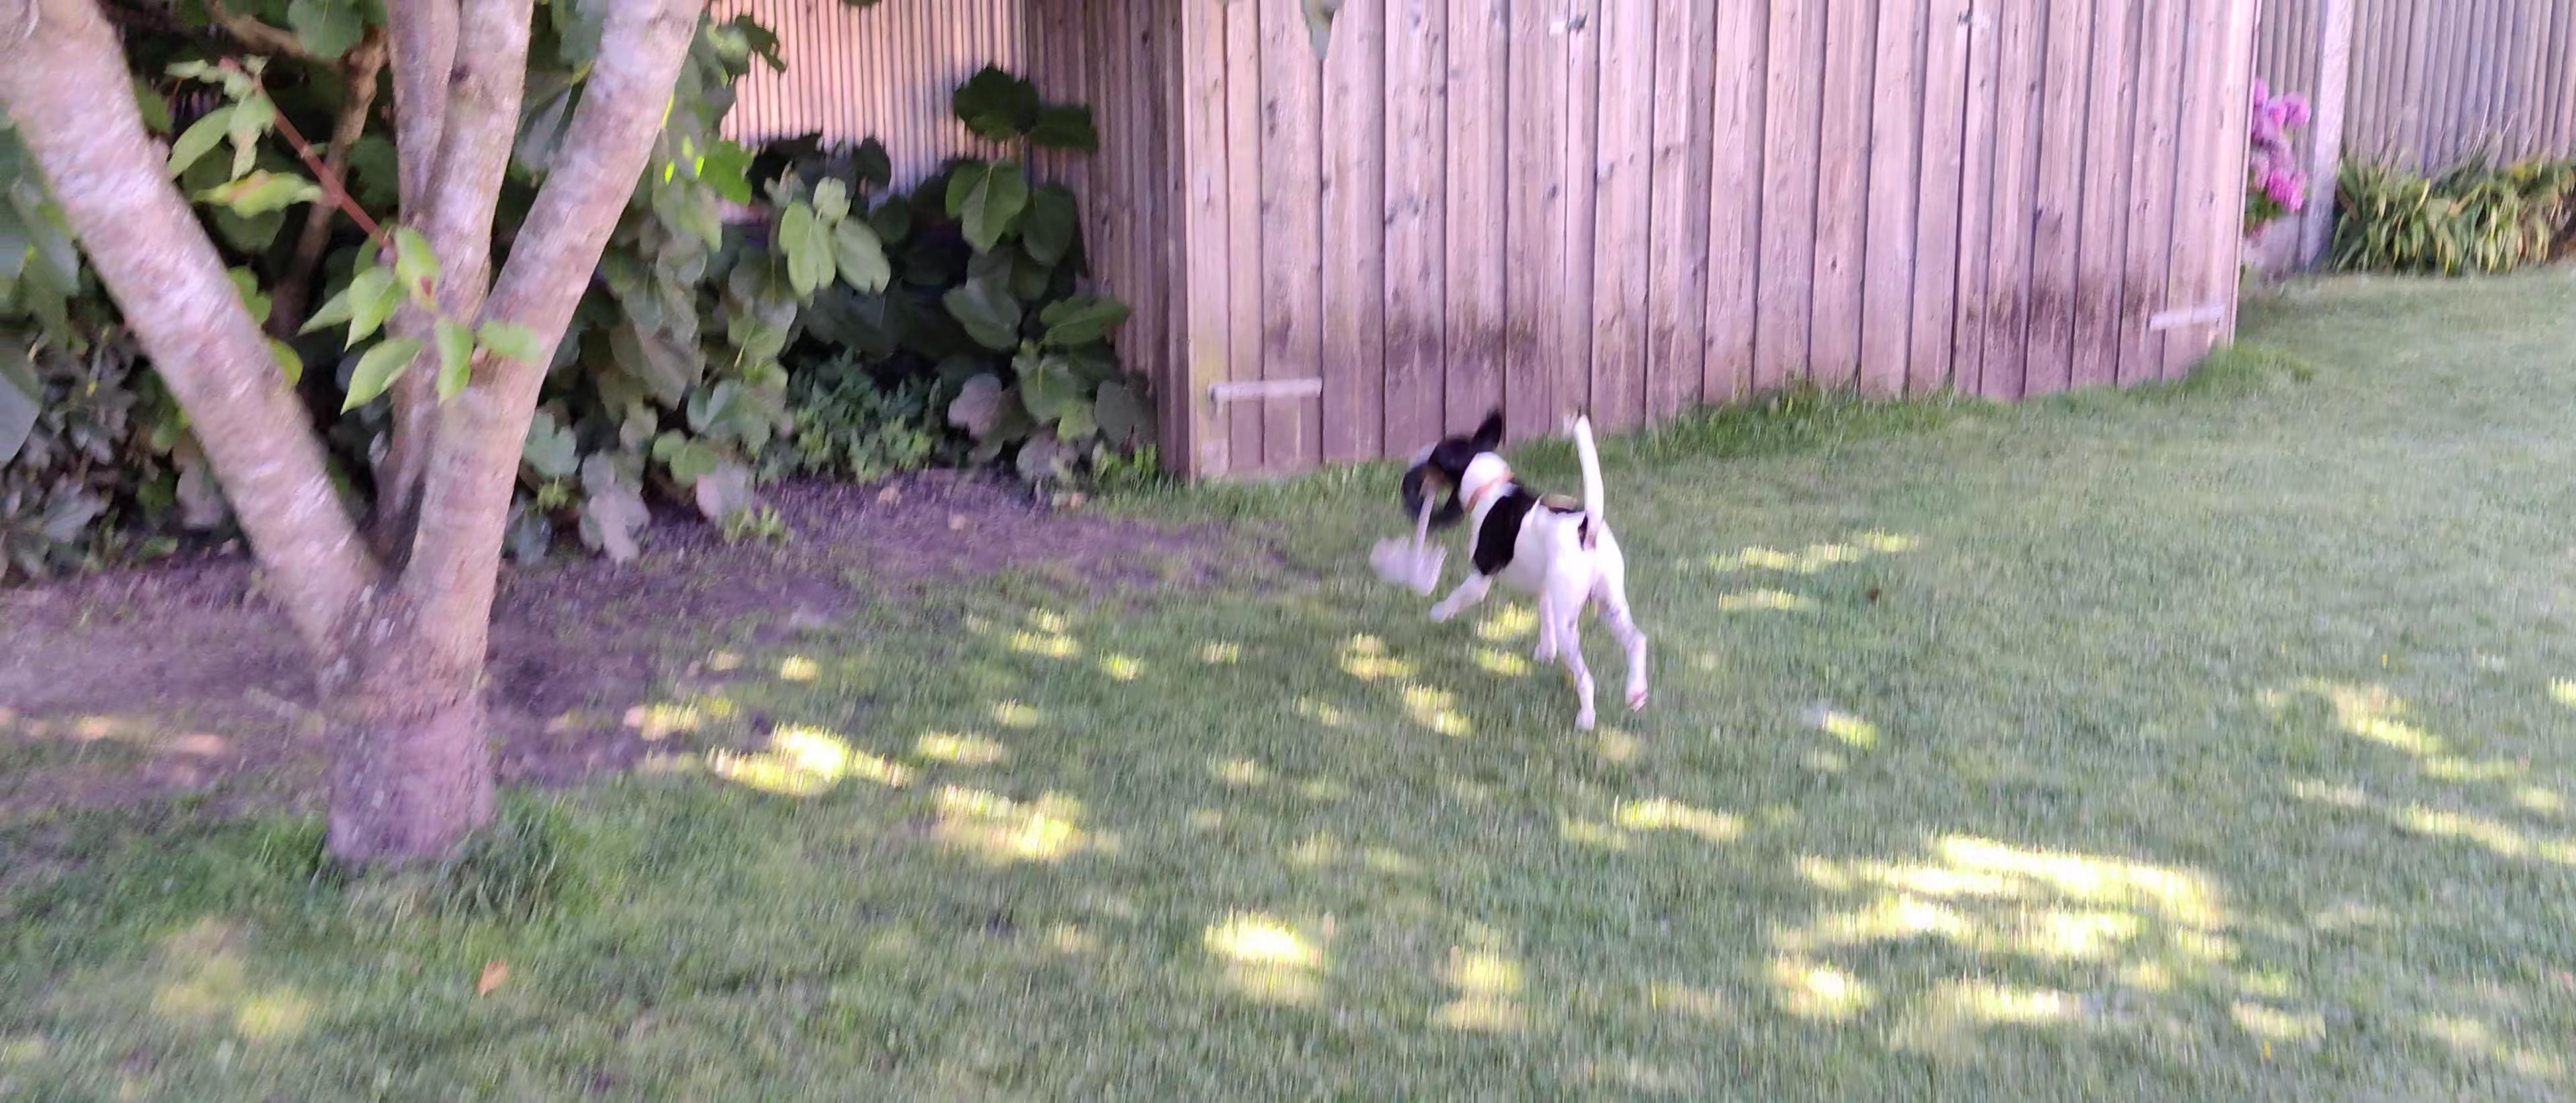Dog: (1405, 404, 1649, 736)
